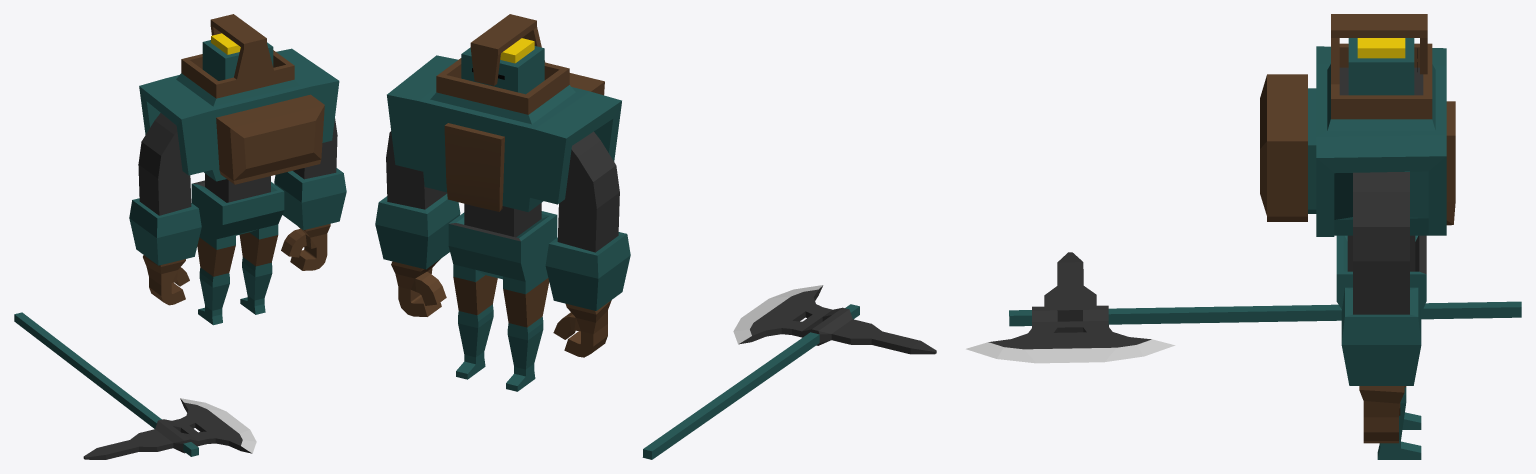
File: rhffoa2.fbx
The picture shows the model from 3 angles, left to right: view 1: azimuth 30°, elevation 25°; view 2: azimuth 150°, elevation 25°; view 3: azimuth 270°, elevation 25°; orthographic projection. The views are drawn at different scales.
Parts seen in each view (by area): view 1: Object002, Box003; view 2: Object002, Box003; view 3: Object002, Box003.
Boxes of the visible parts, x1,y1,x2,y2 form: Object002: [129, 14, 346, 325]; Box003: [14, 312, 256, 459]; Object002: [375, 14, 630, 391]; Box003: [642, 285, 936, 459]; Object002: [1260, 14, 1455, 459]; Box003: [966, 252, 1521, 363].
Size of the model in its own units: 199 by 157 by 186.
